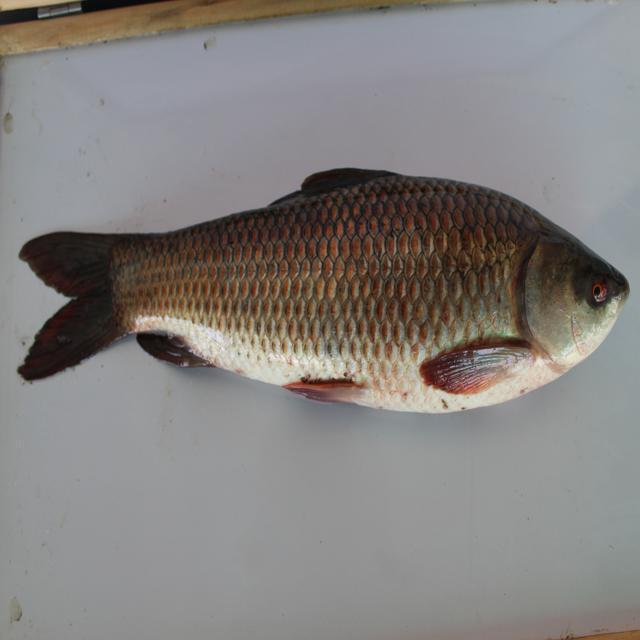Grass Carp: (22, 168, 629, 415)
